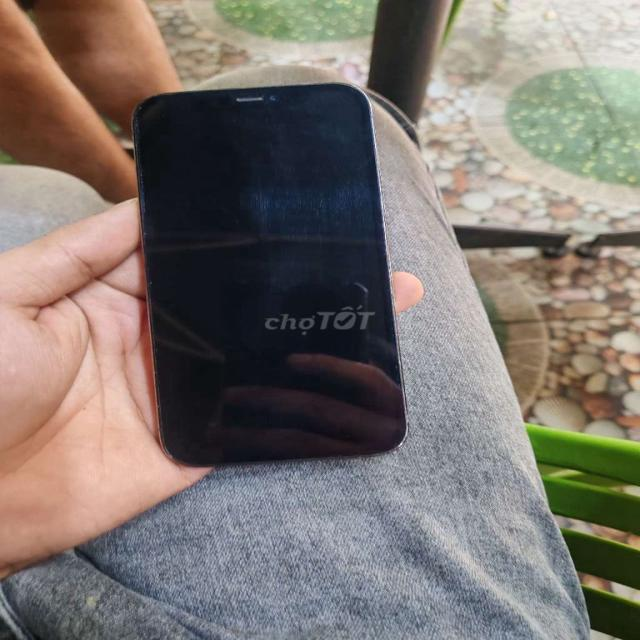gen_12_13: (128, 78, 414, 472)
